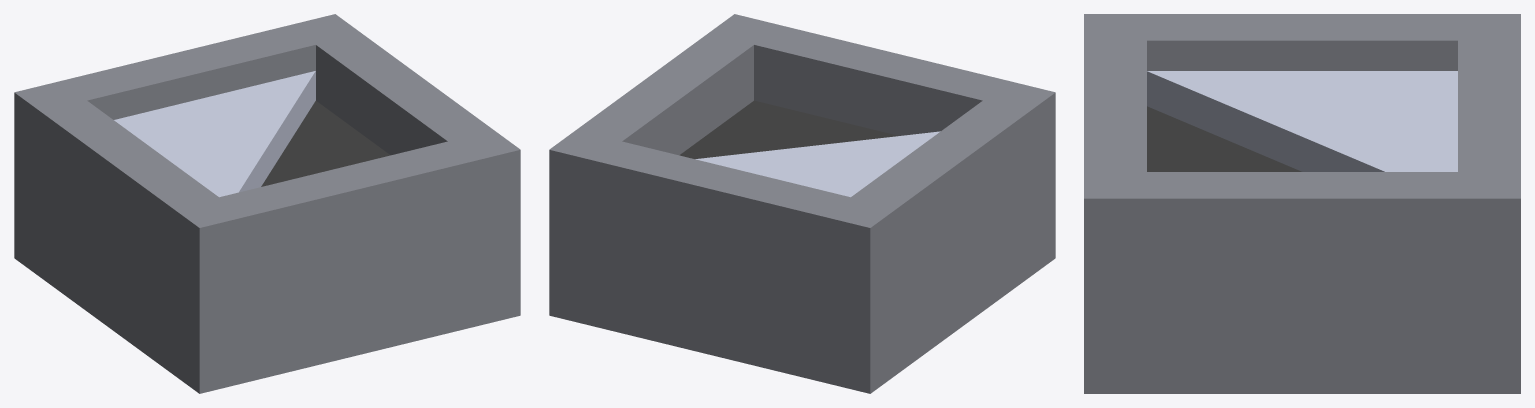
The model's file is spaceInterior_019.obj.
The picture shows the model from 3 angles, left to right: view 1: azimuth 30°, elevation 25°; view 2: azimuth 150°, elevation 25°; view 3: azimuth 270°, elevation 25°; orthographic projection. The views are drawn at different scales.
Visible parts, largest first — view 1: Mesh1 Group1 Model; view 2: Mesh1 Group1 Model; view 3: Mesh1 Group1 Model.
Boxes of the visible parts, <box> form: Mesh1 Group1 Model: <box>14,14,520,393</box>; Mesh1 Group1 Model: <box>549,14,1055,393</box>; Mesh1 Group1 Model: <box>1084,14,1520,393</box>.
Bounding box in the file's own units: 0.2291 × 0.1131 × 0.2291.
